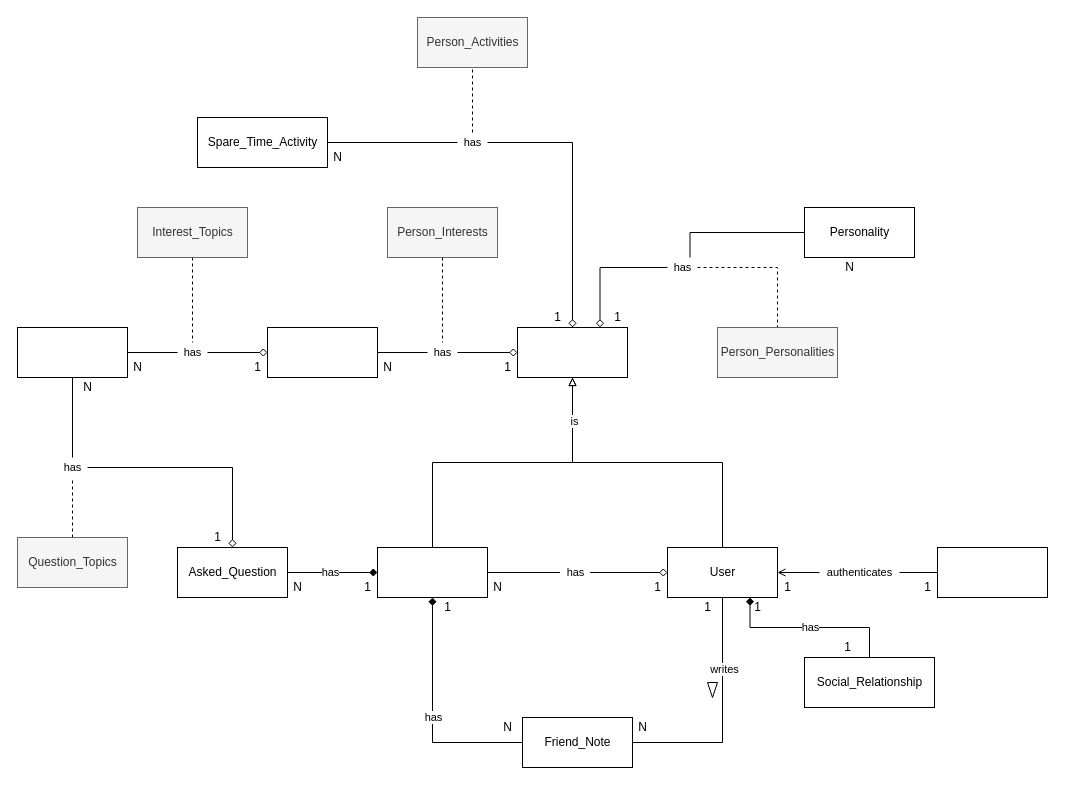
Some shapes in this 1065 by 785 pixel diagram are drawn without their labels. Each missing label, with the centre of its shape:
Friend: the point at 432,572
Interest: the point at 322,352
Person: the point at 572,352
Topic: the point at 72,352
User_Account: the point at 992,572
